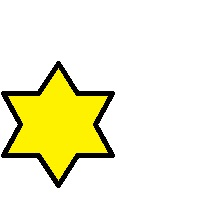star: (1, 60, 116, 187)
